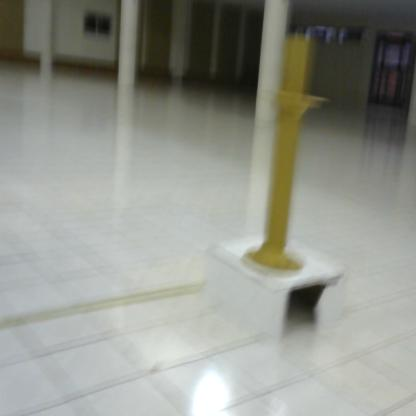pole: (238, 29, 330, 274)
